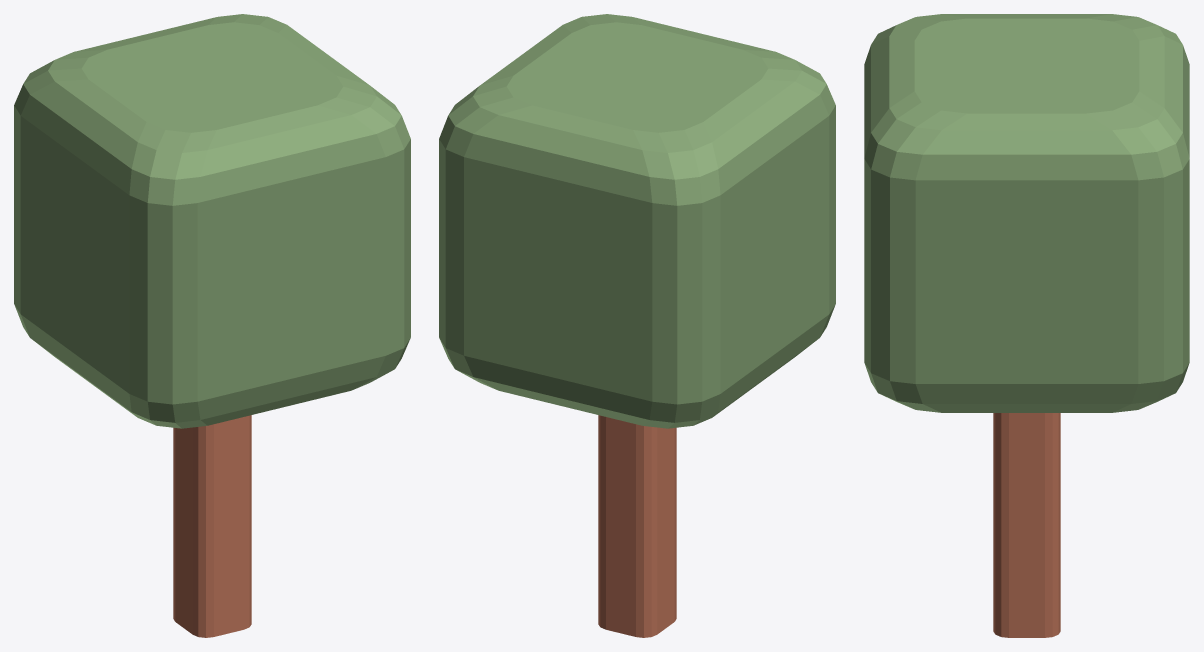
File: Arvore Cidade 2.fbx
The picture shows the model from 3 angles, left to right: view 1: azimuth 30°, elevation 25°; view 2: azimuth 150°, elevation 25°; view 3: azimuth 270°, elevation 25°; orthographic projection. The views are drawn at different scales.
Parts seen in each view (by area): view 1: Arvore Cidade 2; view 2: Arvore Cidade 2; view 3: Arvore Cidade 2.
Boxes of the visible parts, x1,y1,x2,y2 form: Arvore Cidade 2: (14, 14, 410, 637); Arvore Cidade 2: (439, 14, 835, 637); Arvore Cidade 2: (864, 14, 1189, 637).
Bounding box in the file's own units: 200 × 378 × 200.
